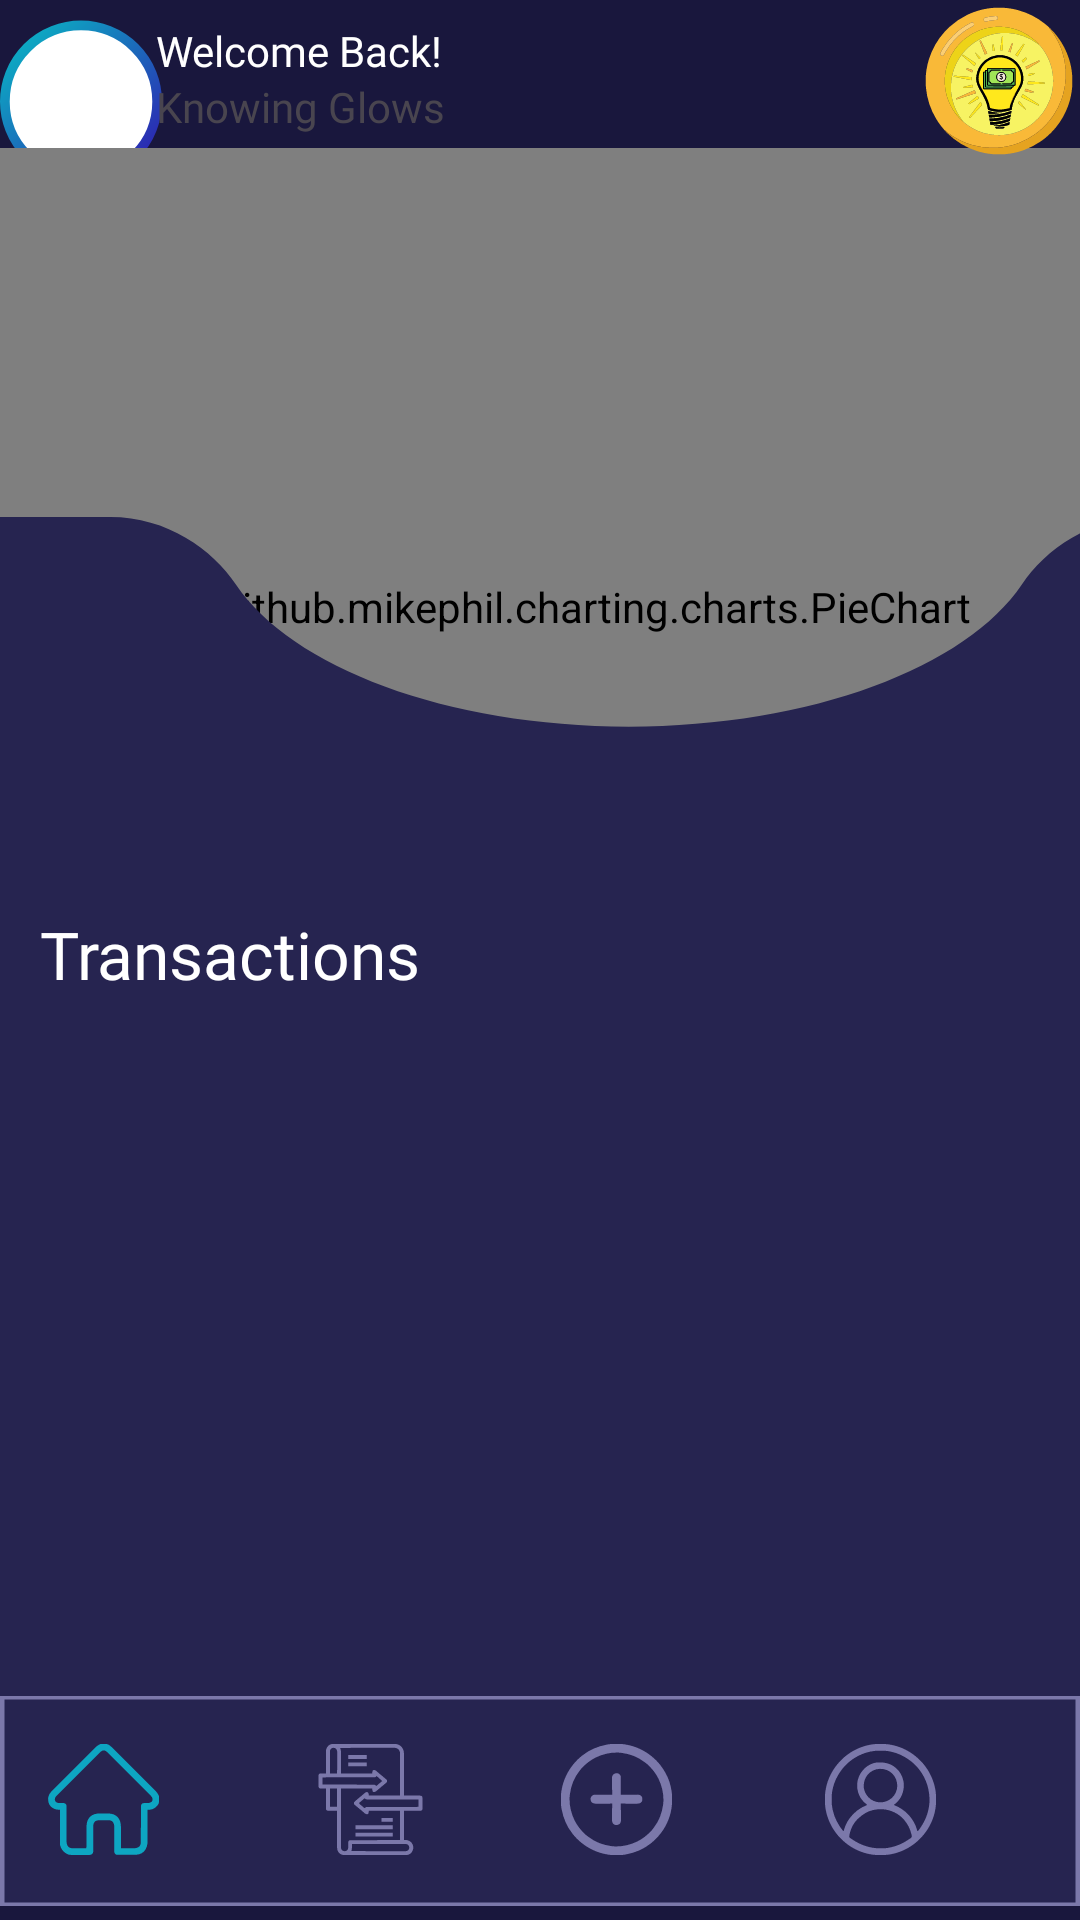

Where to tap for icons on this 1080*1920 app screen, as (x,y):
addrecords page: (616,1799)
glowcoin: (999,81)
home page: (103,1799)
profile page: (880,1799)
transaction page: (370,1799)
